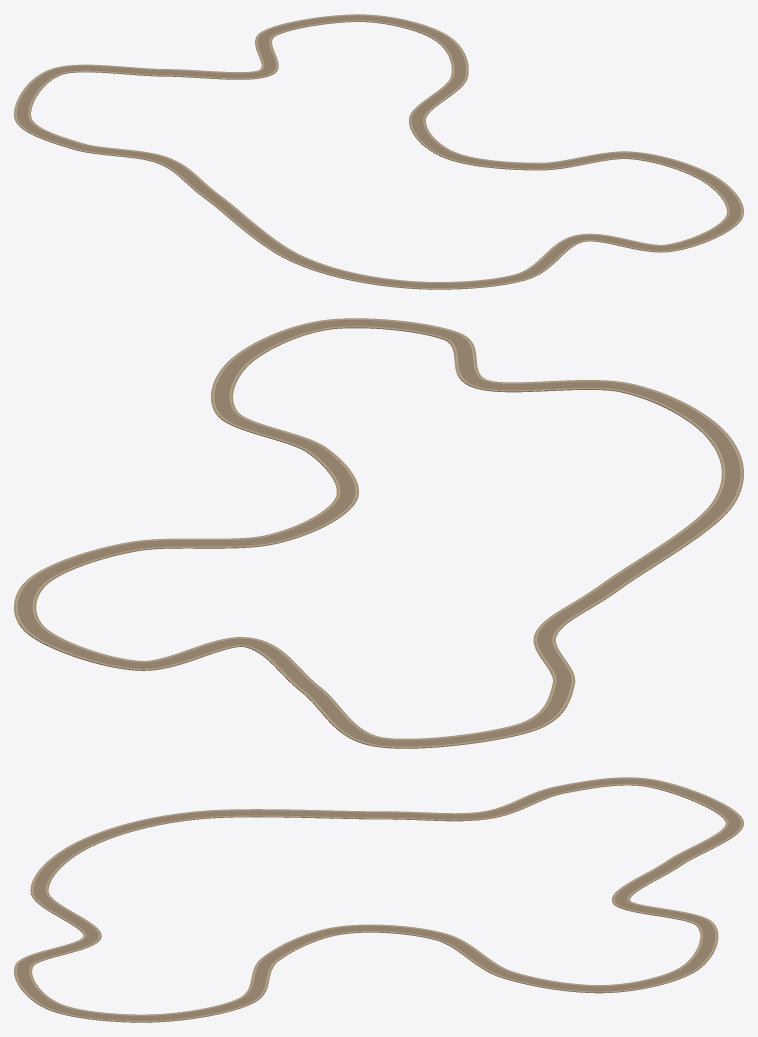
Rendered from road_dust_valley.glb.
3 views of the same model, one above another, from view 1: azimuth 30°, elevation 25°; view 2: azimuth 150°, elevation 25°; view 3: azimuth 270°, elevation 25° (orthographic). The views are drawn at different scales.
Visible parts, largest first — view 1: road; view 2: road; view 3: road.
Boxes of the visible parts, box(x1,y1,x2,y2) form: road: box(14, 14, 743, 289); road: box(14, 318, 743, 748); road: box(14, 777, 743, 1022).
Size of the model in its own units: 383 by 0.32 by 483.
